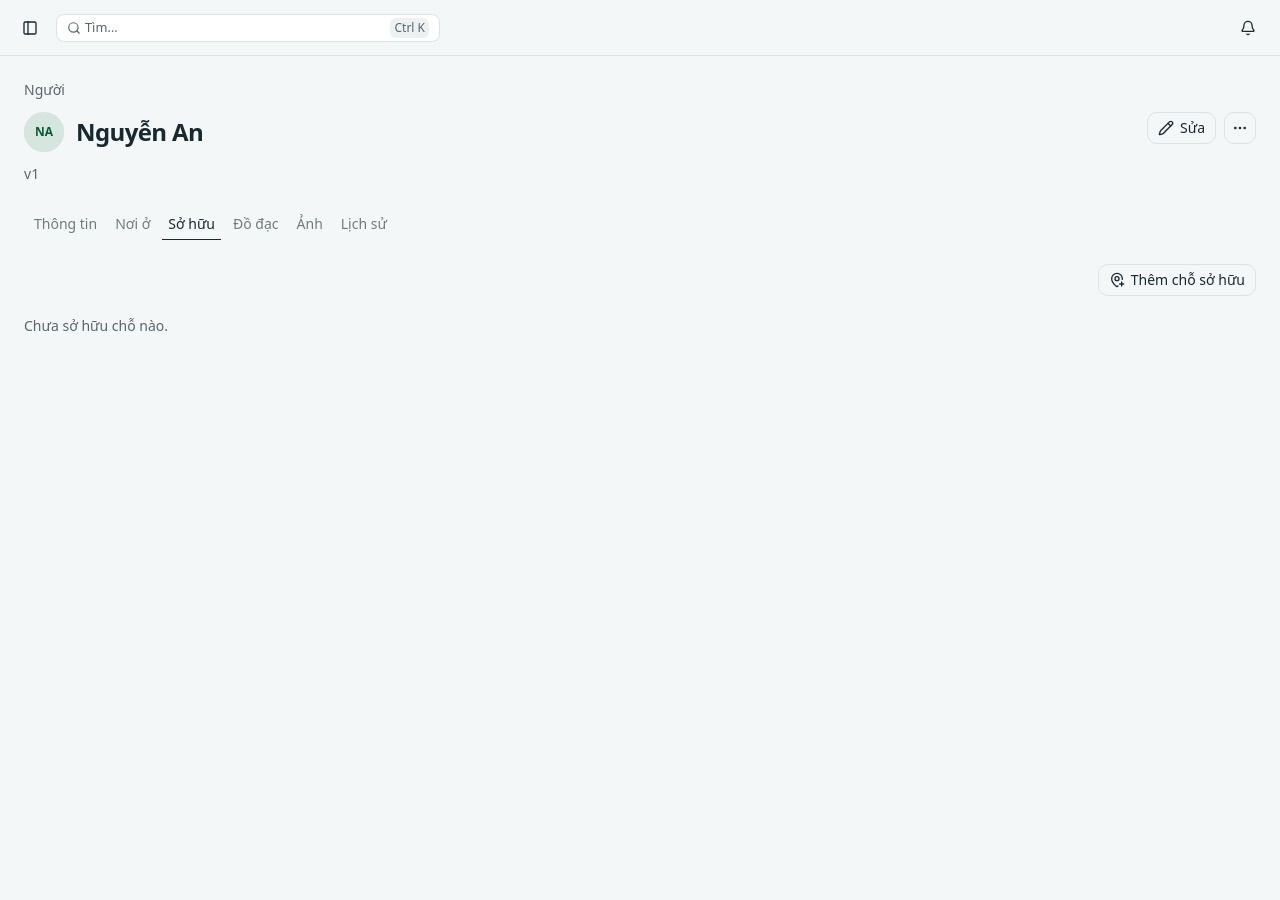
addsAPlaceThisPersonOwns
Click the button "Thêm chỗ sở hữu" at coordinates (1177, 280), box [1098,264,1256,296]
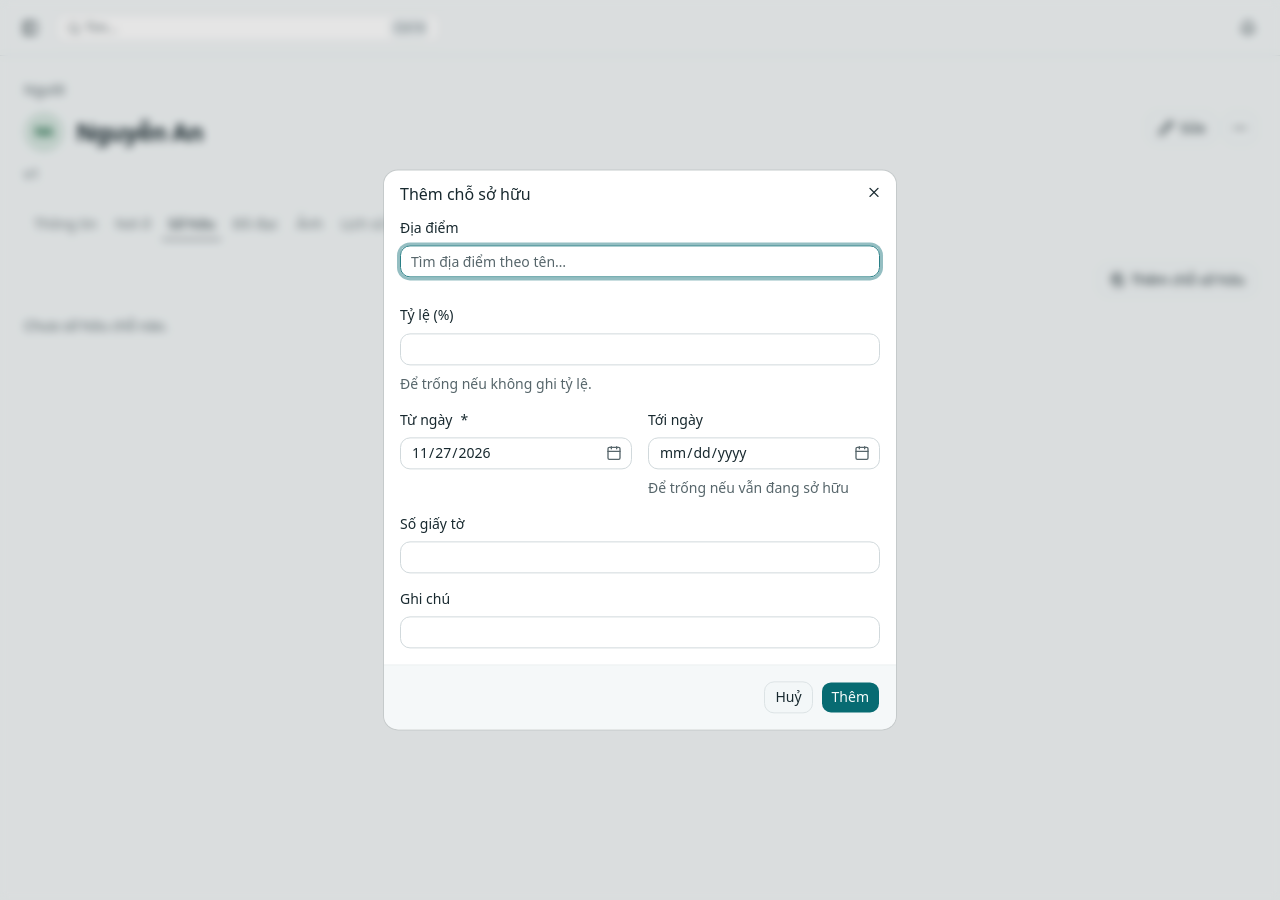
Type "P30" into the search field labelled "Tìm địa điểm" at coordinates (640, 262), box [400,246,880,278]
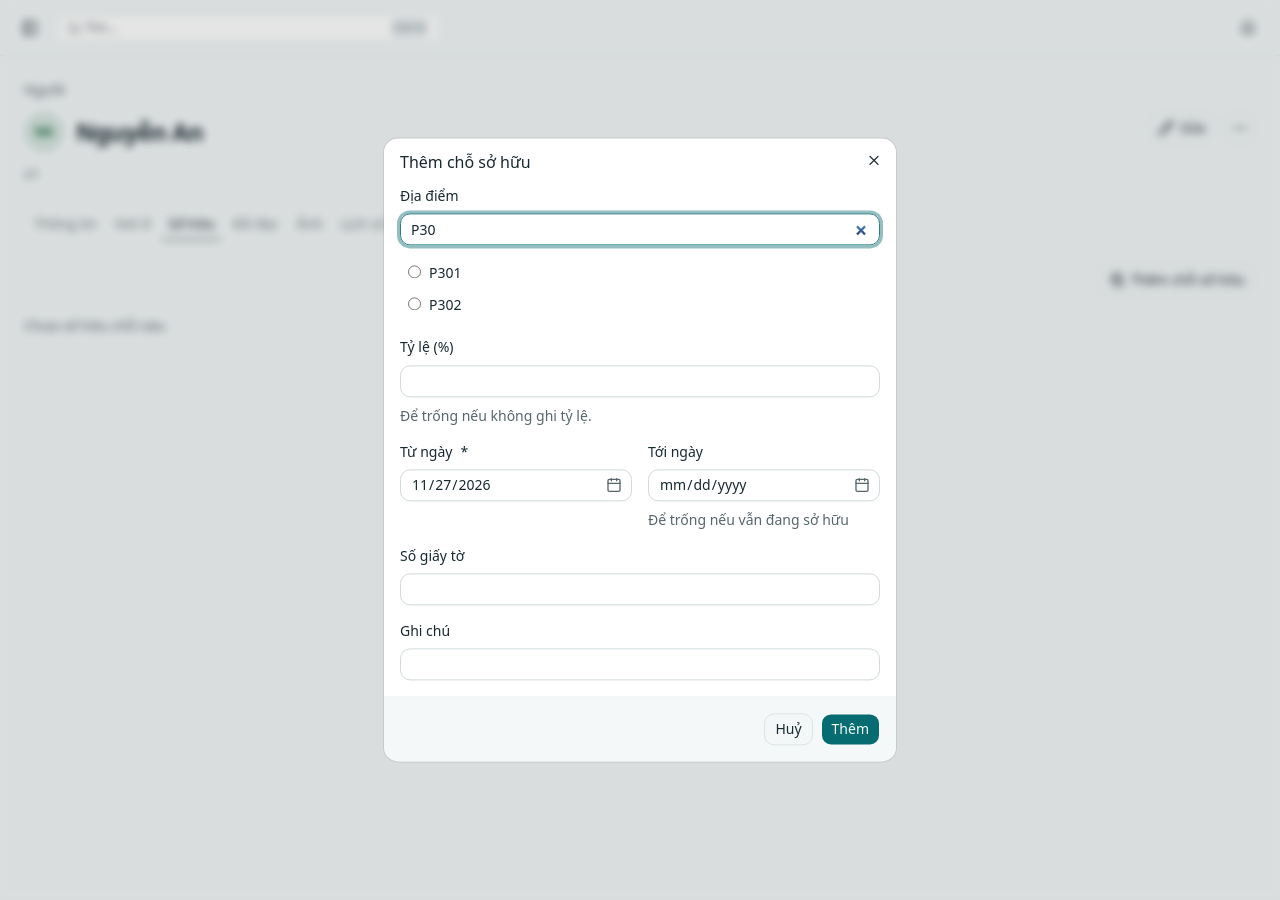
Click the radio button labelled "P302" at coordinates (414, 304), box [408,298,421,311]
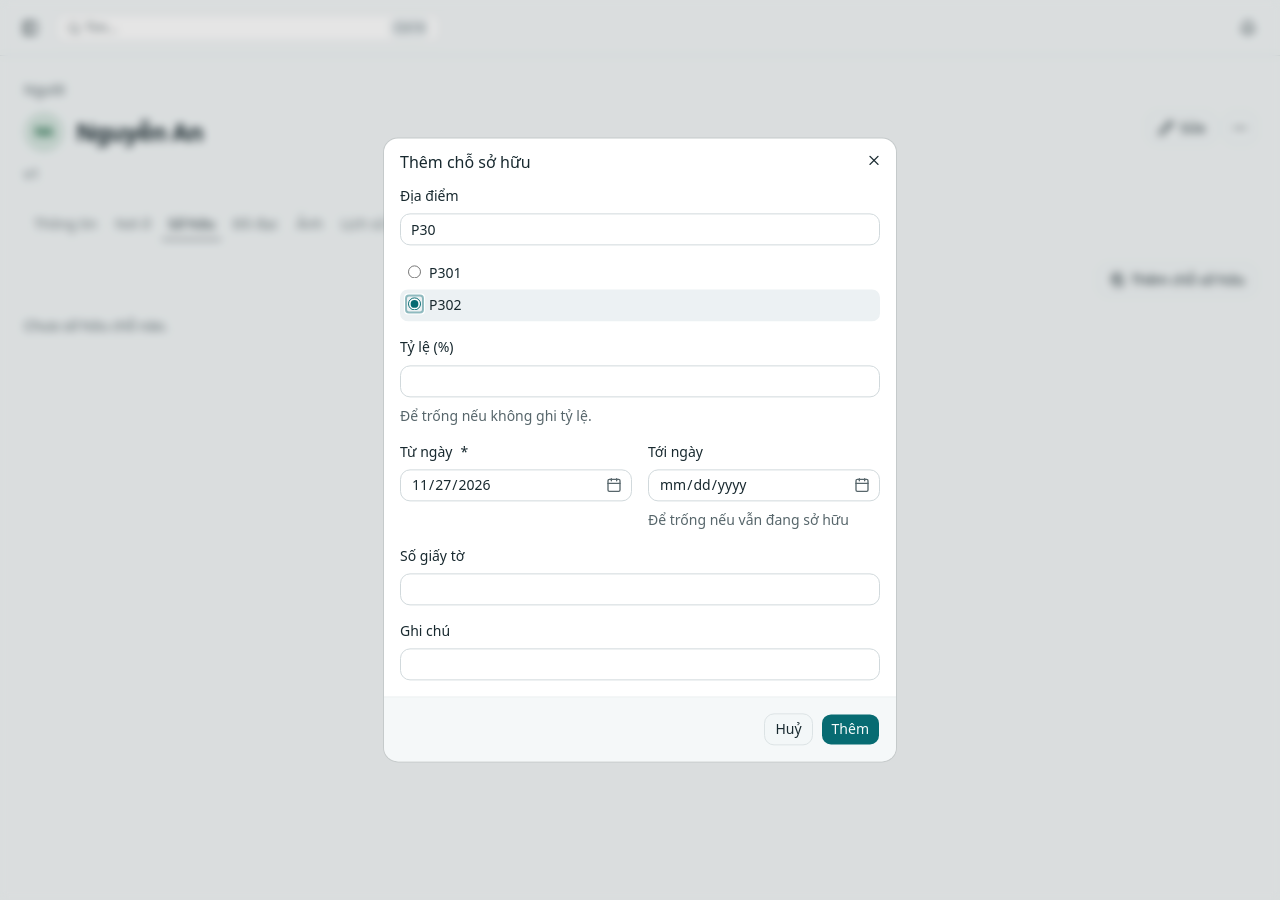
Click the button "Thêm" at coordinates (850, 730), box [821,714,880,746]
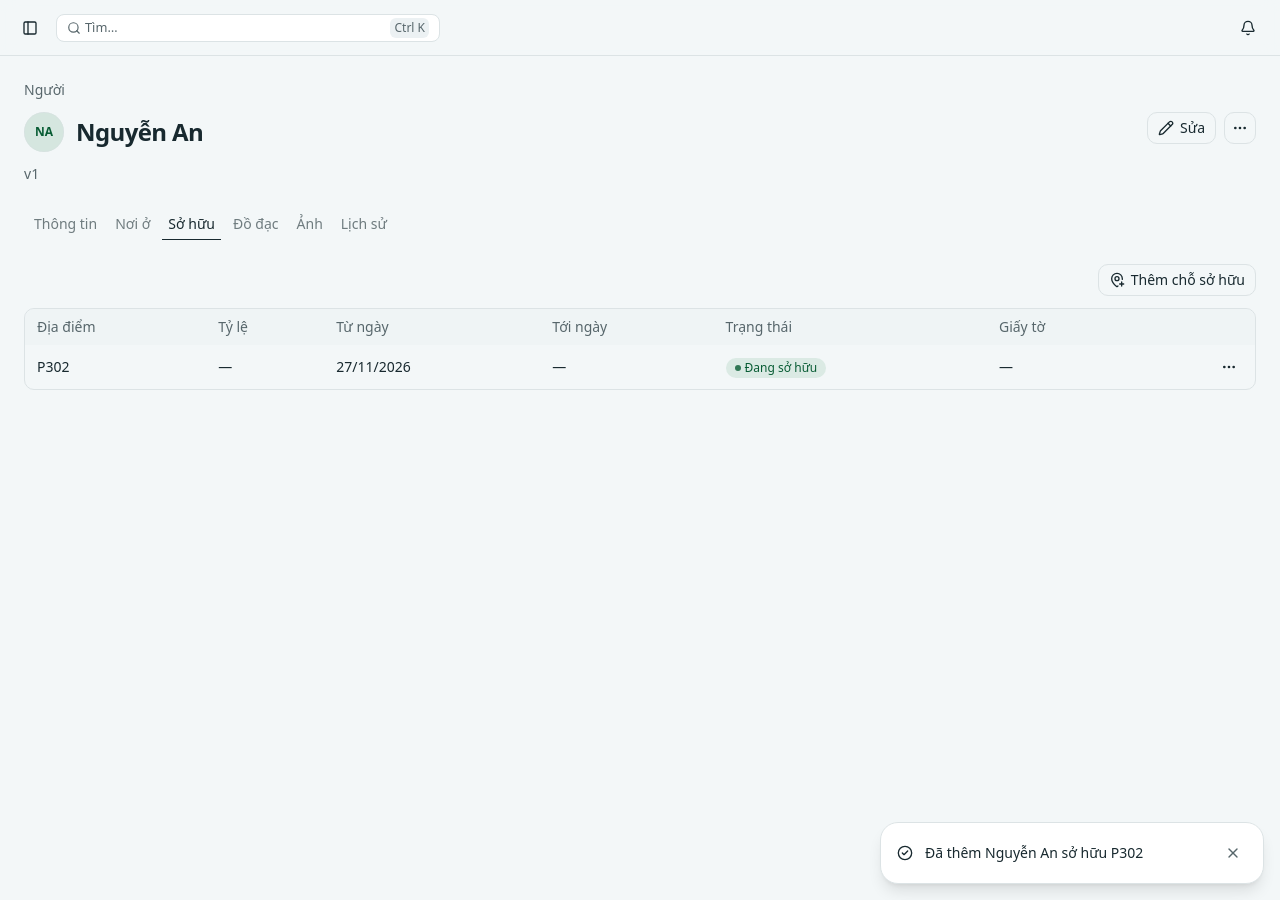
Result: the link "P302" is shown at [37,357,70,376]
